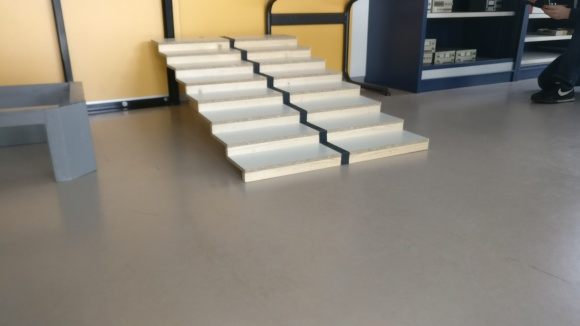stairs: (148, 35, 431, 187)
